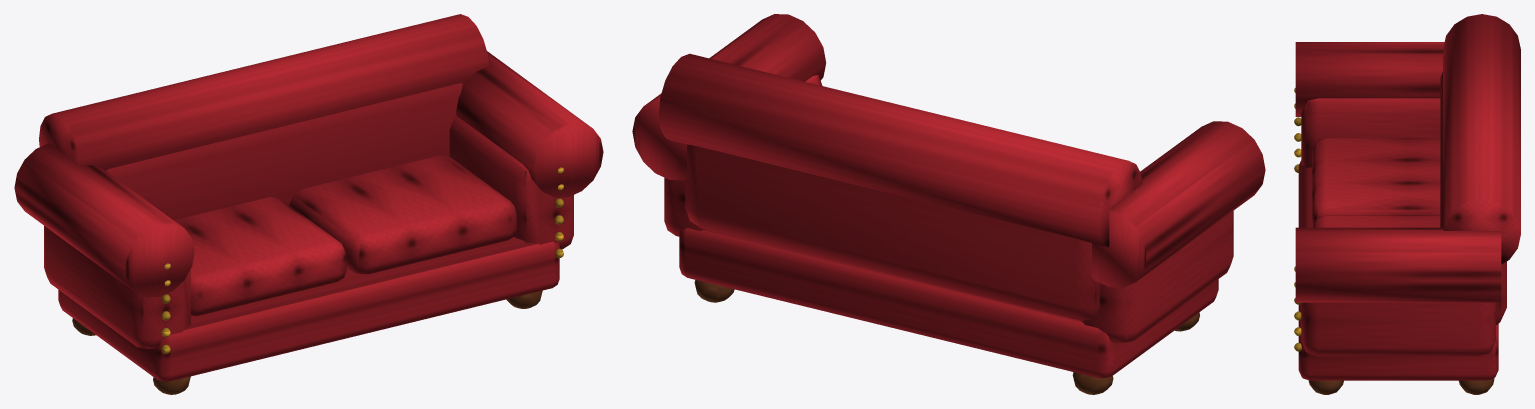
File: h_prop_sofa.glb
3 renders of one model, left to right at view 1: azimuth 30°, elevation 25°; view 2: azimuth 150°, elevation 25°; view 3: azimuth 270°, elevation 25°, orthographic. The views are drawn at different scales.
Visible parts, largest first — view 1: SofaBackRoll, SofaBase, SofaBackCore, SofaCush_0.33, SofaArmRoll_-0.74, SofaCush_-0.33, SofaArmRoll_0.74, SofaArmWall_-0.74, SofaArmWall_0.74; view 2: SofaBackRoll, SofaBackCore, SofaBase, SofaArmRoll_-0.74, SofaArmWall_-0.74, SofaArmRoll_0.74, SofaArmWall_0.74, SofaFoot_-0.7_0.3, SofaFoot_0.7_0.3; view 3: SofaBackRoll, SofaArmRoll_0.74, SofaArmWall_0.74, SofaCush_-0.33, SofaArmRoll_-0.74, SofaBase, SofaArmWall_-0.74, SofaCush_0.33, SofaBackCore, SofaFoot_0.7_0.3, SofaFoot_0.7_-0.3.
Part boxes in pixels (x1,y1,x2,y2): SofaBackRoll: [39, 14, 488, 170]; SofaBase: [58, 237, 559, 381]; SofaBackCore: [106, 83, 462, 220]; SofaCush_0.33: [289, 155, 516, 274]; SofaArmRoll_-0.74: [14, 143, 194, 297]; SofaCush_-0.33: [174, 196, 346, 315]; SofaArmRoll_0.74: [456, 51, 603, 197]; SofaArmWall_-0.74: [44, 226, 190, 348]; SofaArmWall_0.74: [449, 116, 573, 249]; SofaBackRoll: [658, 53, 1142, 247]; SofaBackCore: [685, 144, 1099, 320]; SofaBase: [679, 228, 1218, 378]; SofaArmRoll_-0.74: [1092, 121, 1265, 287]; SofaArmWall_-0.74: [1081, 211, 1233, 343]; SofaArmRoll_0.74: [632, 14, 826, 180]; SofaArmWall_0.74: [664, 75, 822, 236]; SofaFoot_-0.7_0.3: [1072, 372, 1113, 394]; SofaFoot_0.7_0.3: [694, 280, 734, 302]; SofaBackRoll: [1443, 14, 1520, 264]; SofaArmRoll_0.74: [1295, 227, 1501, 302]; SofaArmWall_0.74: [1301, 302, 1495, 356]; SofaCush_-0.33: [1312, 138, 1440, 227]; SofaArmRoll_-0.74: [1295, 42, 1444, 116]; SofaBase: [1298, 160, 1498, 380]; SofaArmWall_-0.74: [1301, 98, 1440, 167]; SofaCush_0.33: [1313, 215, 1440, 227]; SofaBackCore: [1440, 72, 1506, 324]; SofaFoot_0.7_0.3: [1459, 378, 1494, 394]; SofaFoot_0.7_-0.3: [1308, 380, 1343, 394].
Bounding box in the file's own units: 1.85 × 0.82 × 0.816.
Materials: 3 (3 with a texture image).
